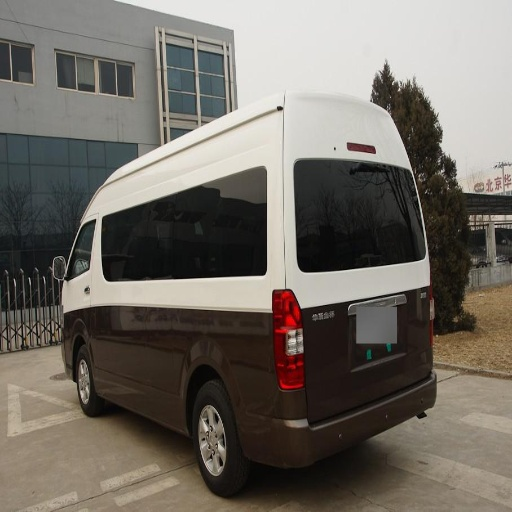back_bumper: (252, 374, 434, 466)
back_left_light: (272, 292, 301, 359)
trunk: (129, 266, 425, 437)
